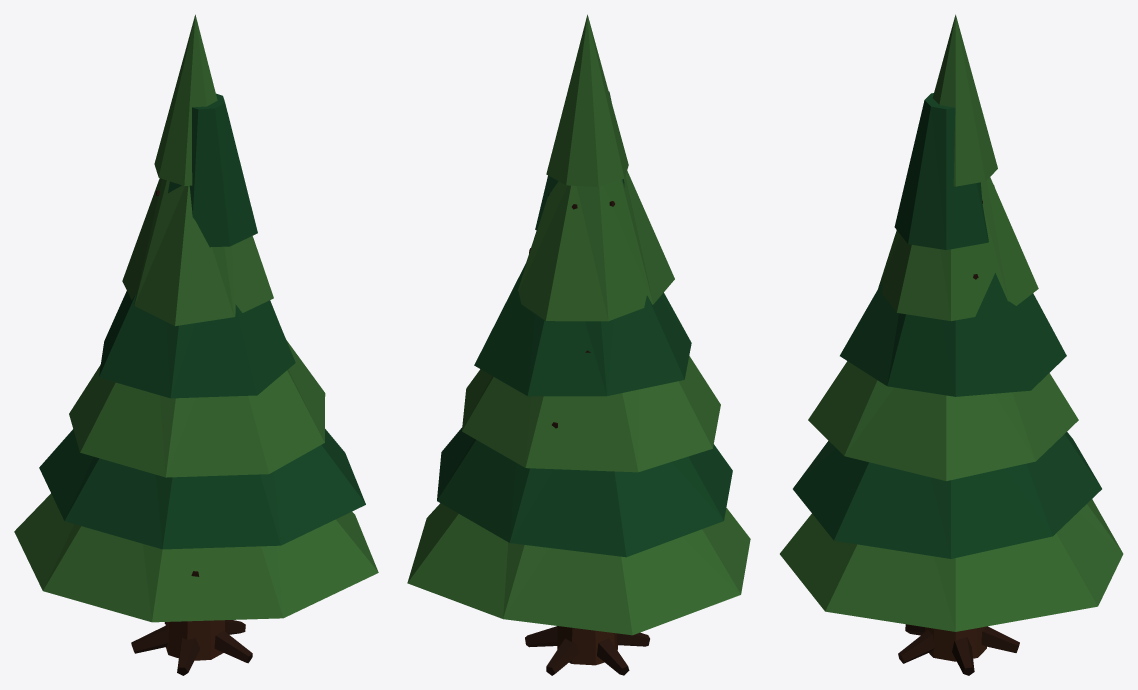
File: spruce_tree.obj
3 views of the same model, side by side, from view 1: azimuth 30°, elevation 25°; view 2: azimuth 150°, elevation 25°; view 3: azimuth 270°, elevation 25° (orthographic).
Visible parts, largest first — view 1: spruce_tree_MODEL; view 2: spruce_tree_MODEL; view 3: spruce_tree_MODEL.
Boxes of the visible parts, x1=… form: spruce_tree_MODEL: x1=14, y1=14, x2=378, y2=675; spruce_tree_MODEL: x1=407, y1=14, x2=750, y2=675; spruce_tree_MODEL: x1=780, y1=14, x2=1123, y2=675.
Bounding box in the file's own units: 3.91 × 7.61 × 3.73.
